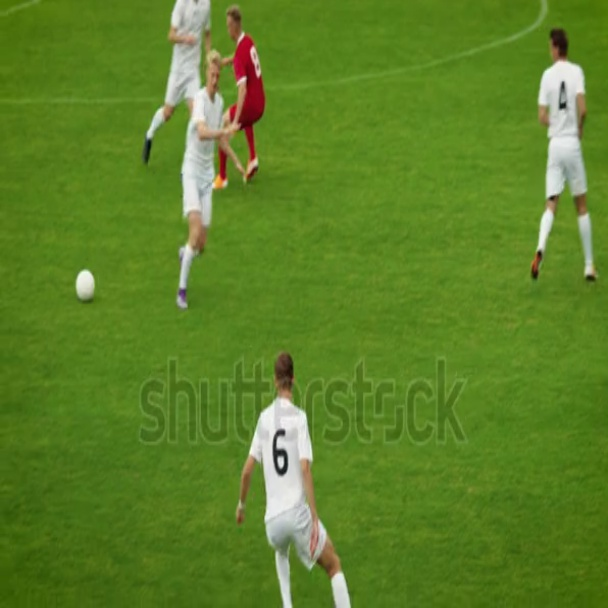ball: (77, 269, 94, 298)
